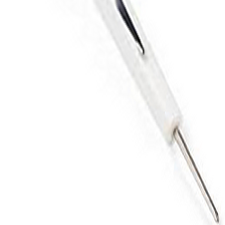Screwdriver: (91, 1, 225, 224)
